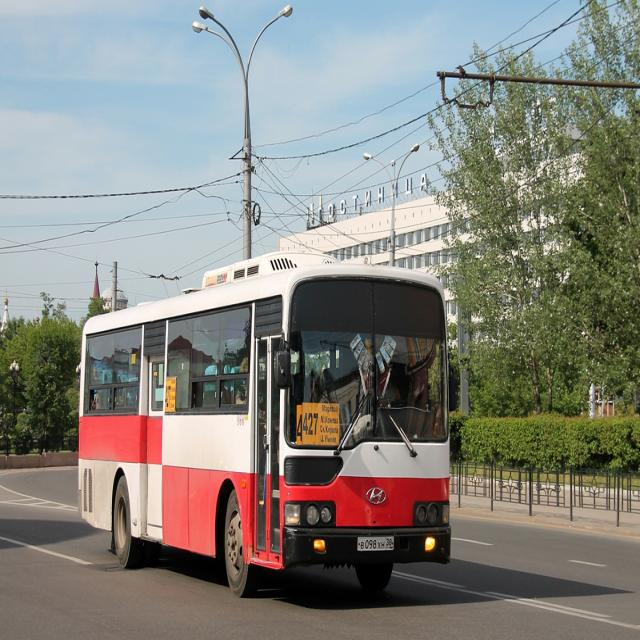number-of-bus: (304, 413, 320, 438)
